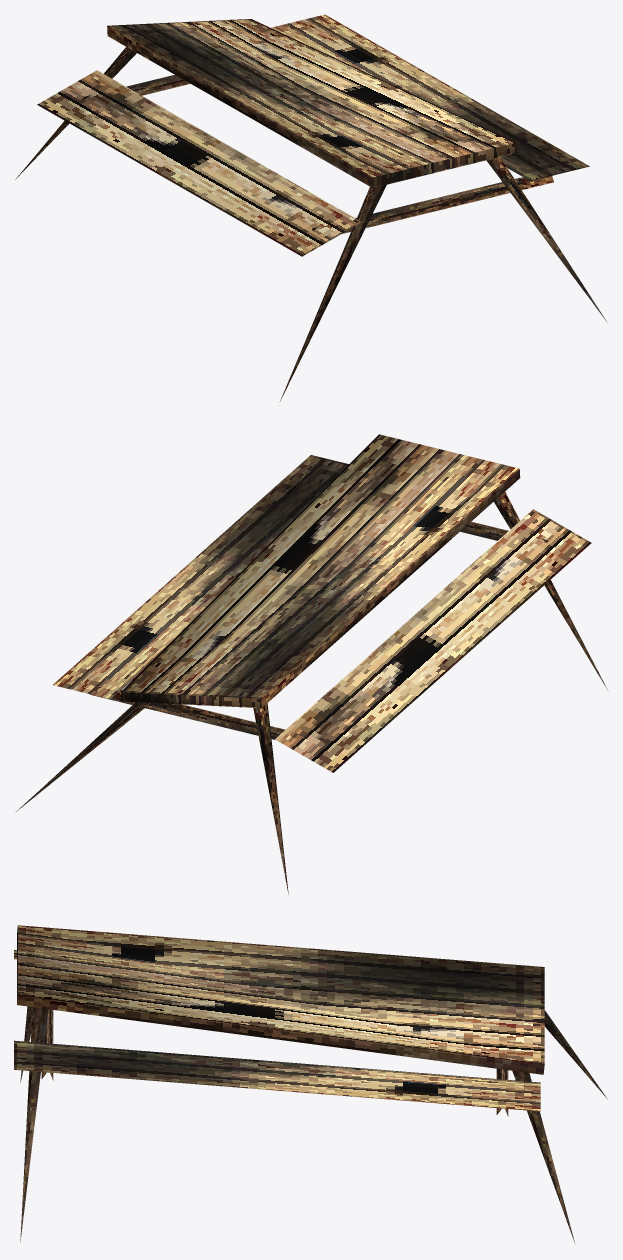
File: USA - Prop - Long Table 01 - Damaged - PATlongtbl_D.glb
The picture shows the model from 3 angles, top to bottom: view 1: azimuth 30°, elevation 25°; view 2: azimuth 150°, elevation 25°; view 3: azimuth 270°, elevation 25°; orthographic projection. The views are drawn at different scales.
Visible parts, largest first — view 1: PATLONGTBL_D; view 2: PATLONGTBL_D; view 3: PATLONGTBL_D.
Part boxes in pixels (left/top/right/bottom): PATLONGTBL_D: left=15, top=14, right=606, bottom=402; PATLONGTBL_D: left=16, top=434, right=607, bottom=894; PATLONGTBL_D: left=14, top=925, right=607, bottom=1242.
Size of the model in its own units: 15.18 by 9.06 by 23.82.
1 material, 1 textured.
